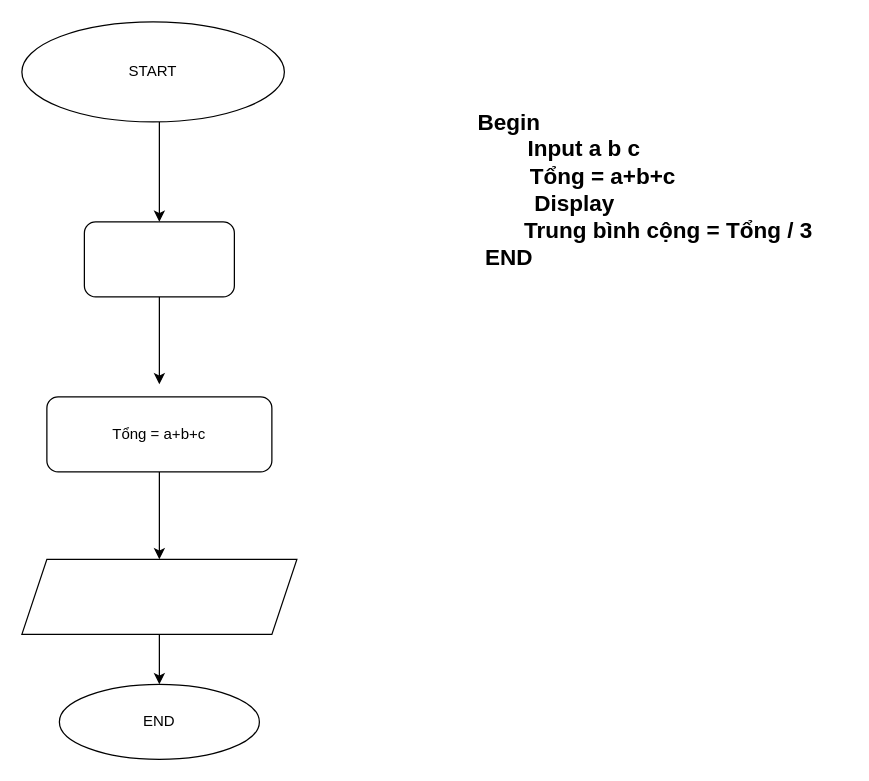
Image size: 869x781. Some labels were removed from this diagram. The box of each missing label's shape, as (x1, y1, x2, y2) in pixels:
a b c: (83, 221, 234, 297)
Trung bình cộng = Tổng / 3: (21, 558, 297, 634)
